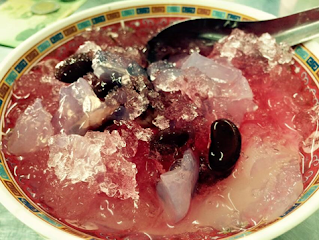O-eo: (8, 6, 317, 240)
